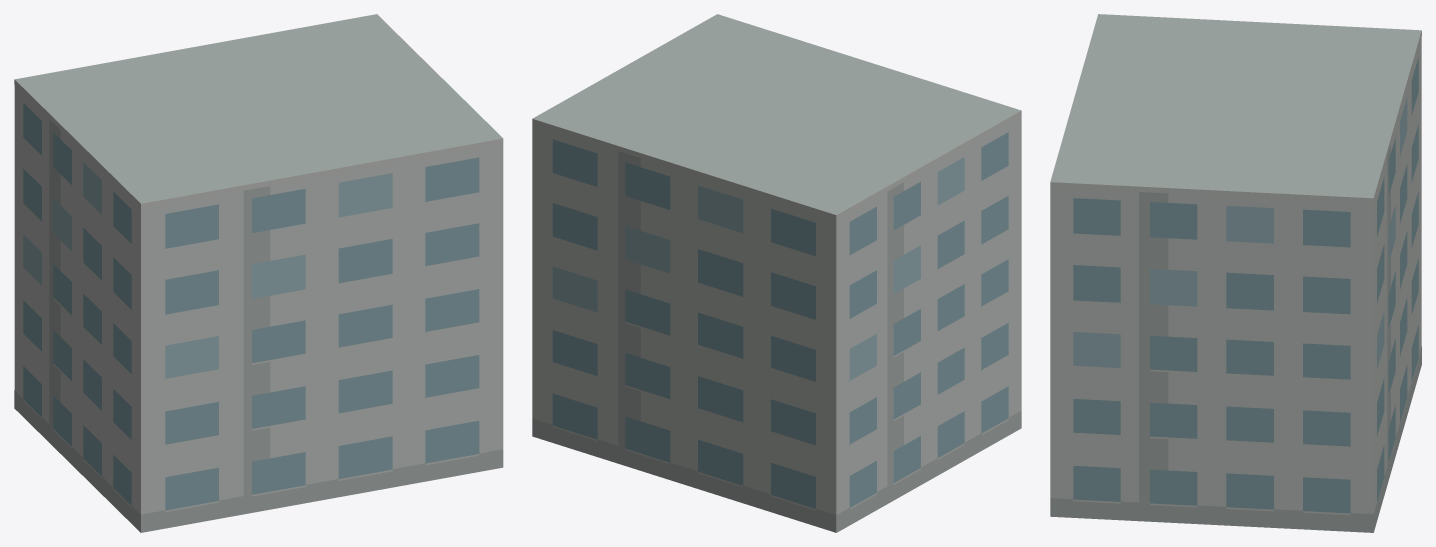
File: survey-upis-32787868.glb
3 renders of one model, left to right at view 1: azimuth 30°, elevation 25°; view 2: azimuth 150°, elevation 25°; view 3: azimuth 270°, elevation 25°, orthographic. The views are drawn at different scales.
Visible parts, largest first — view 1: survey-upis-32787868.tmp; view 2: survey-upis-32787868.tmp; view 3: survey-upis-32787868.tmp.
Part boxes in pixels (x1,y1,x2,y2): survey-upis-32787868.tmp: [14, 14, 503, 532]; survey-upis-32787868.tmp: [532, 14, 1021, 532]; survey-upis-32787868.tmp: [1050, 14, 1421, 532].
Size of the model in its own units: 17.85 by 15.1 by 15.21.
